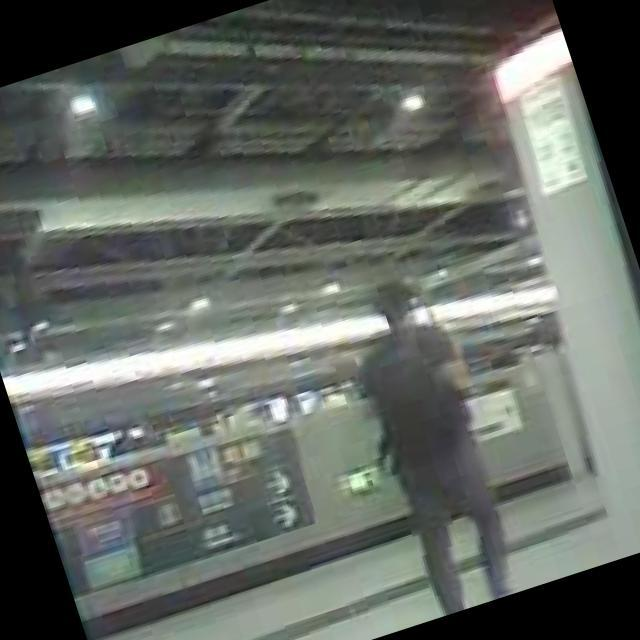person: (326, 266, 540, 620)
